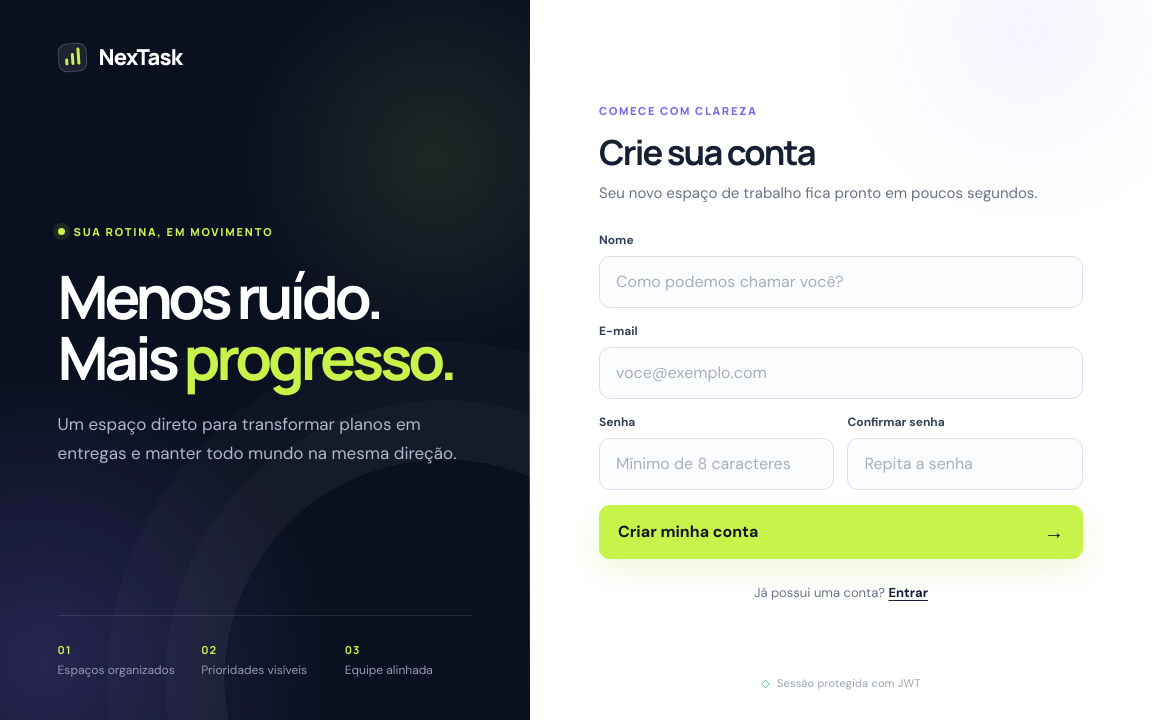
Test: NexTask frontend › validates password confirmation before registration
In the field labelled "Nome": {"x": 841, "y": 282} x1=599 y1=256 x2=1083 y2=308, type "Ana Souza"
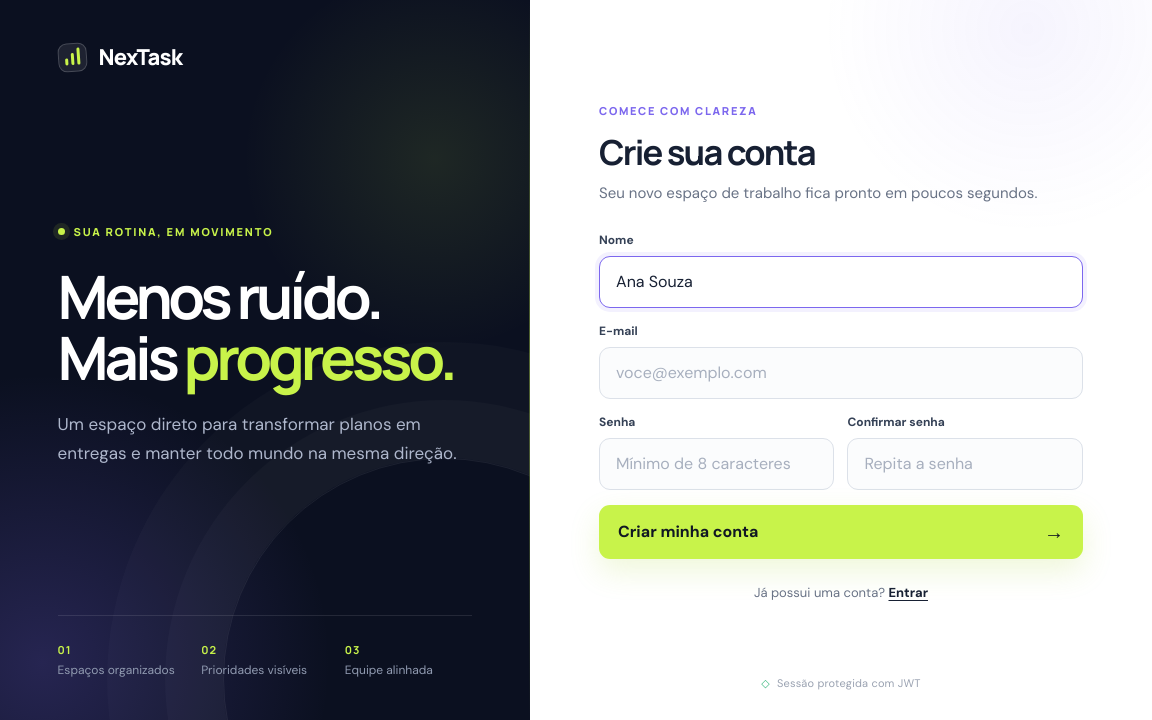
In the field labelled "E-mail": {"x": 841, "y": 373} x1=599 y1=347 x2=1083 y2=399, type "ana@example.com"
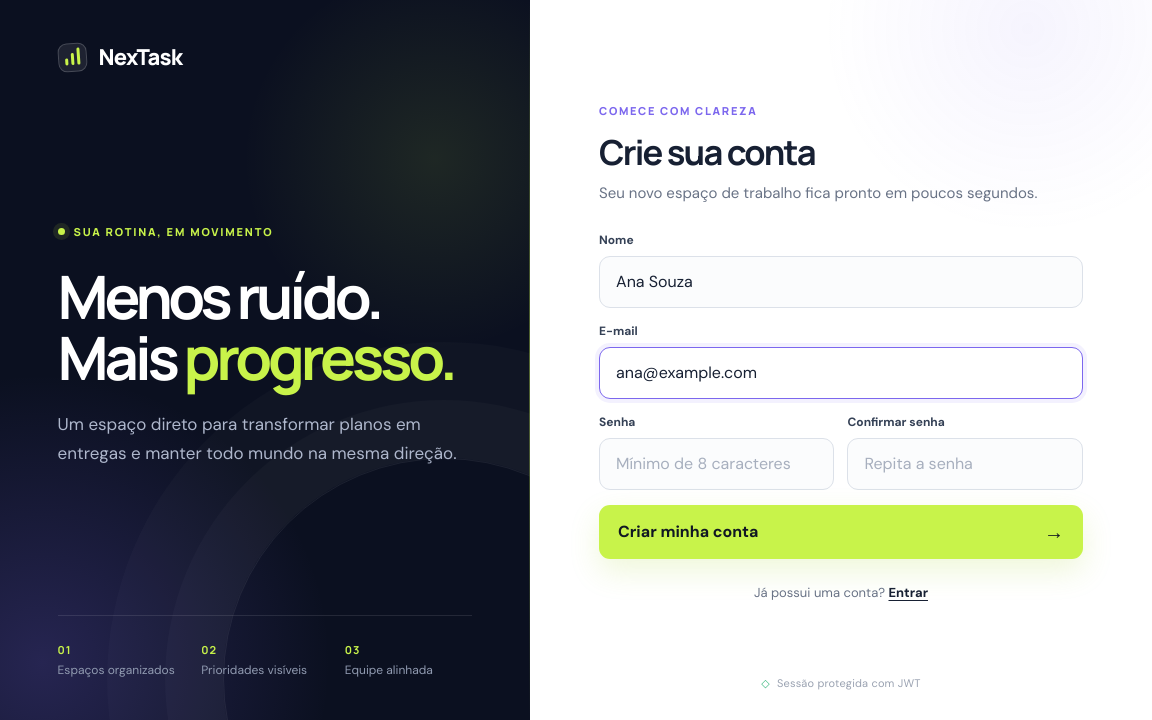
In the password field labelled "Senha": {"x": 717, "y": 464} x1=599 y1=438 x2=834 y2=490, type "password123"
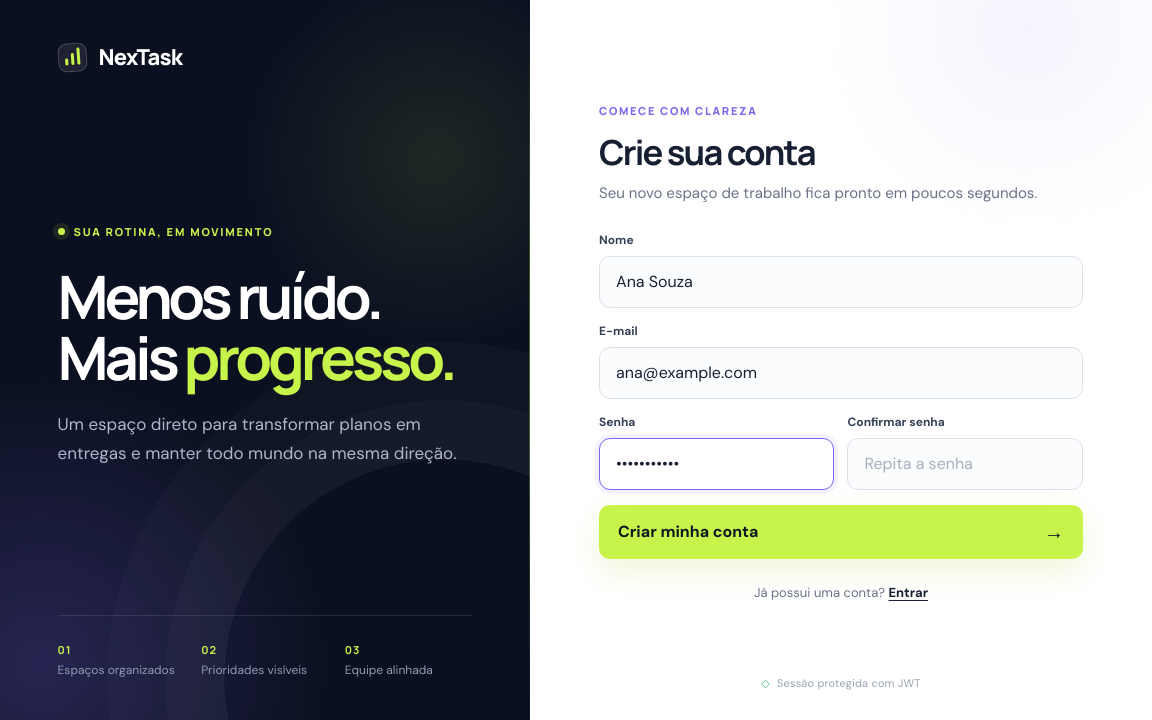
In the password field labelled "Confirmar senha": {"x": 965, "y": 464} x1=848 y1=438 x2=1083 y2=490, type "different123"
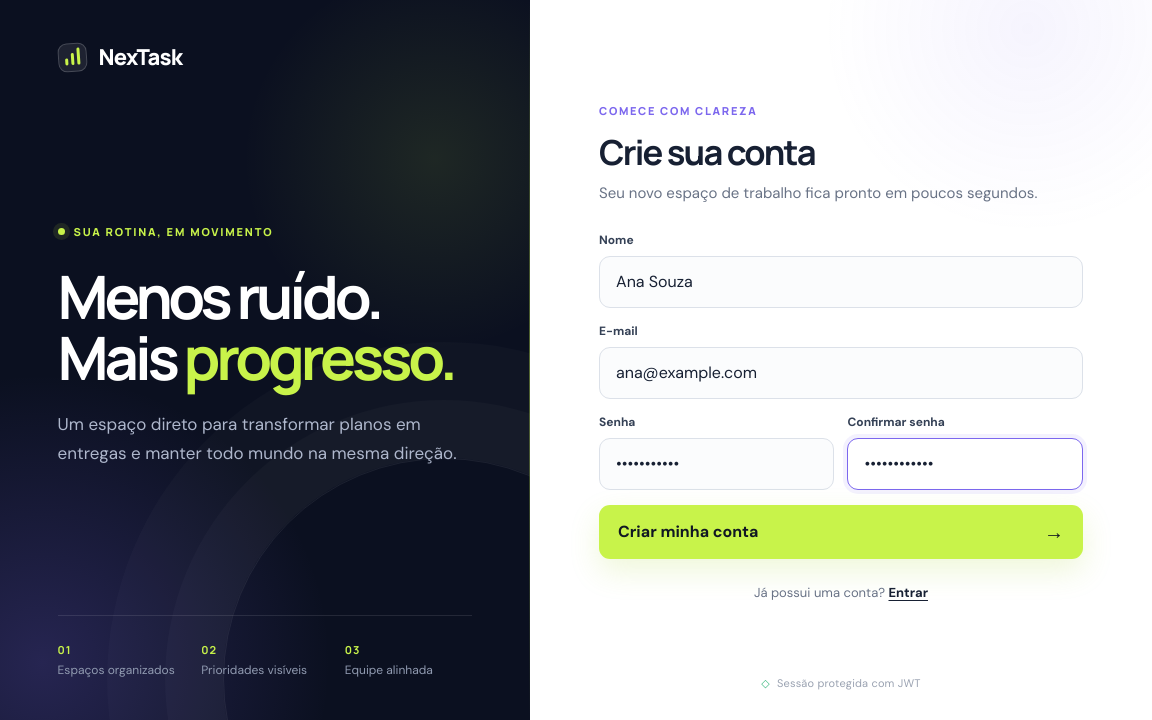
Click the button "Criar minha conta →": {"x": 688, "y": 532} x1=599 y1=505 x2=1083 y2=559
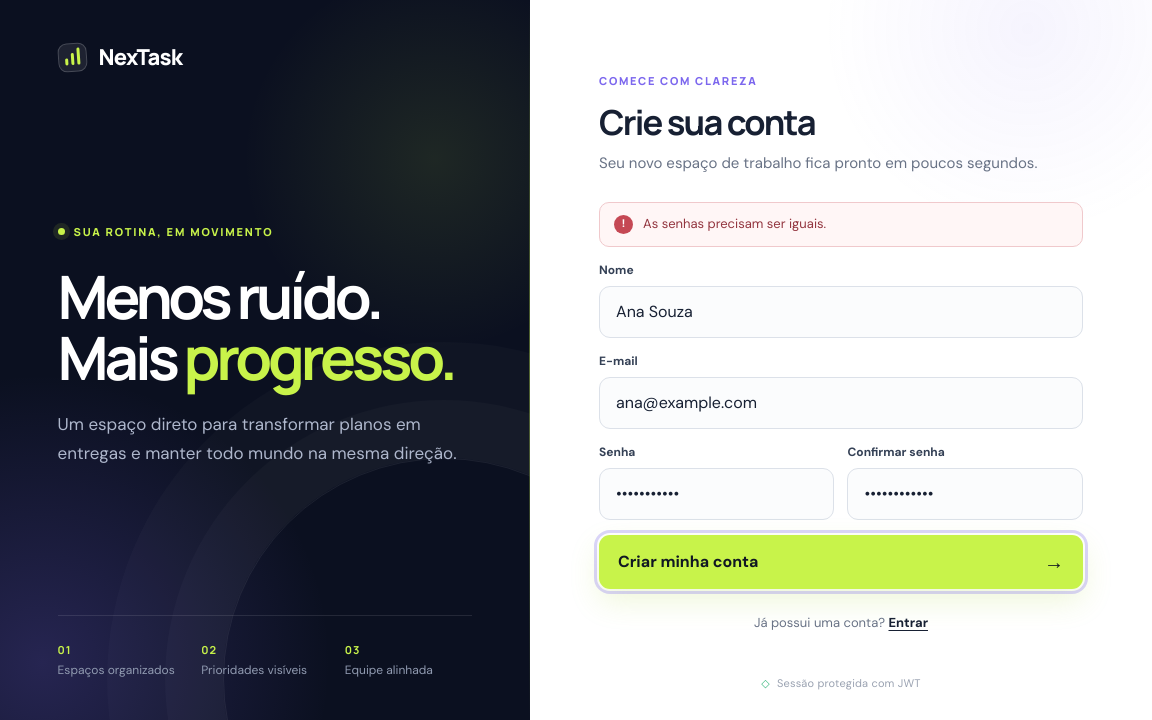
Now the message shows "As senhas precisam ser iguais.", box x1=643 y1=215 x2=826 y2=232
